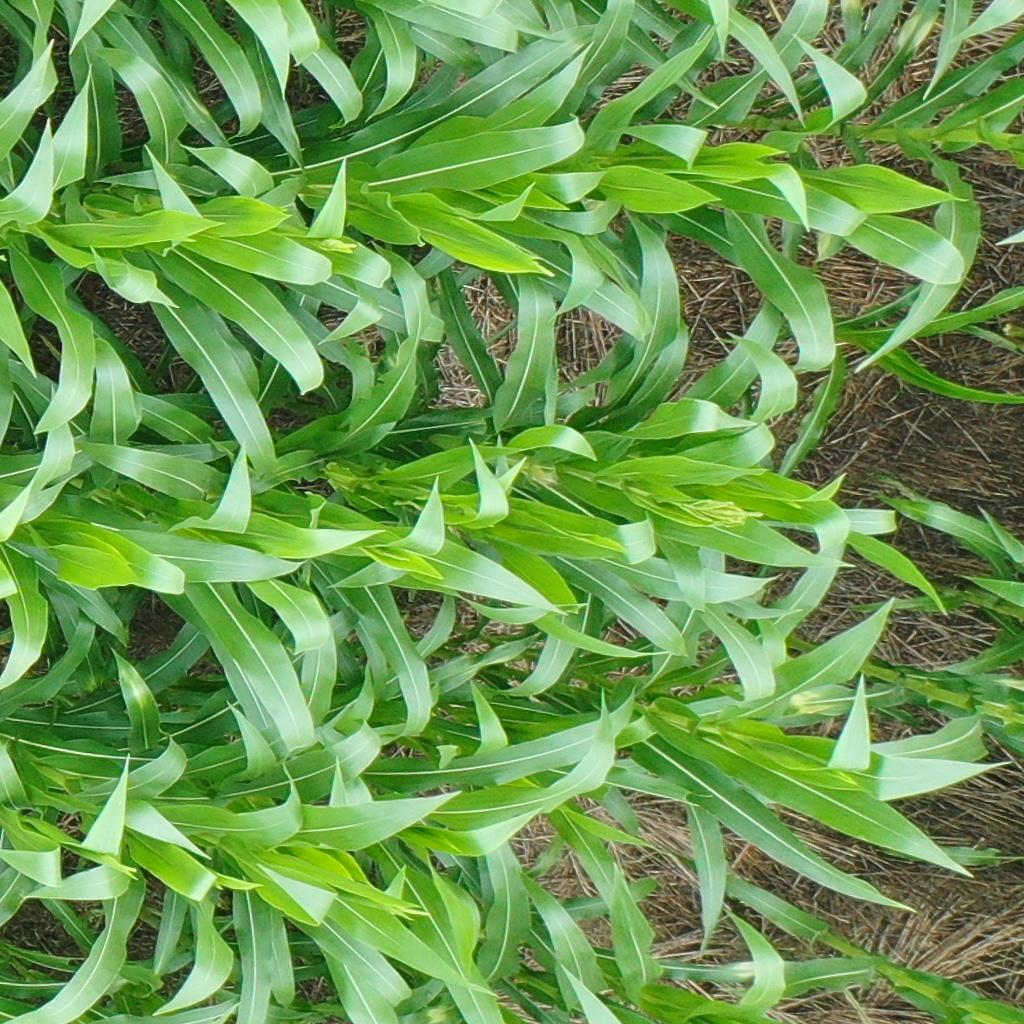Tassel: (685, 496, 764, 528), (317, 233, 358, 253), (107, 852, 138, 874), (400, 904, 430, 923)
